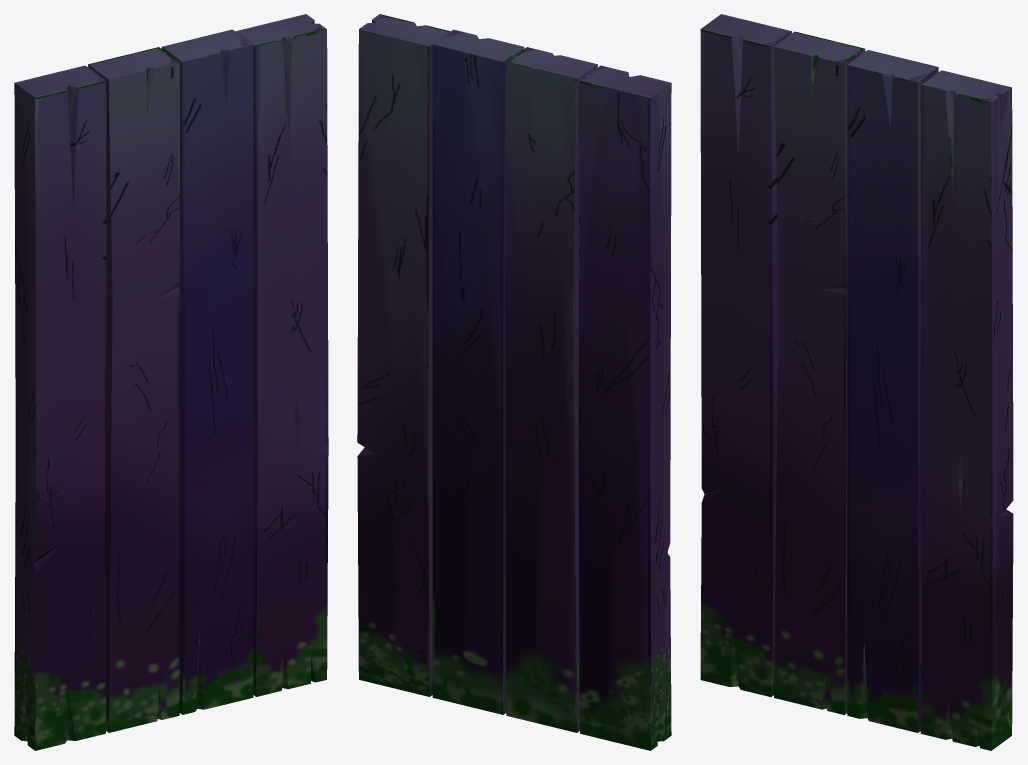
File: Porta.fbx
3 renders of one model, left to right at view 1: azimuth 30°, elevation 25°; view 2: azimuth 150°, elevation 25°; view 3: azimuth 330°, elevation 25°, orthographic.
Parts seen in each view (by area): view 1: Porta; view 2: Porta; view 3: Porta.
Boxes of the visible parts, <box> form: Porta: <box>14,14,328,750</box>; Porta: <box>357,14,671,750</box>; Porta: <box>700,14,1013,750</box>.
Size of the model in its own units: 269 by 33.1 by 573.
